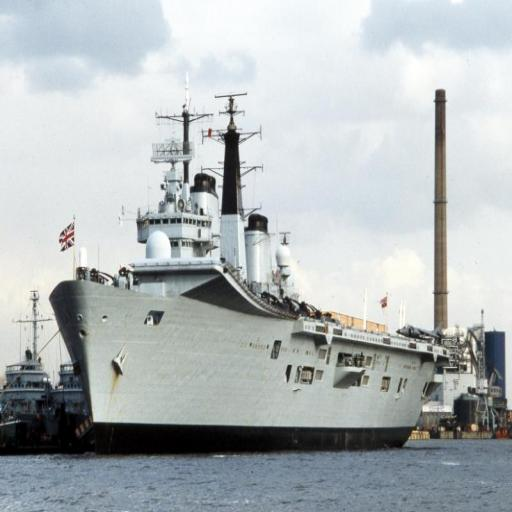Portanaves: (46, 78, 451, 453)
